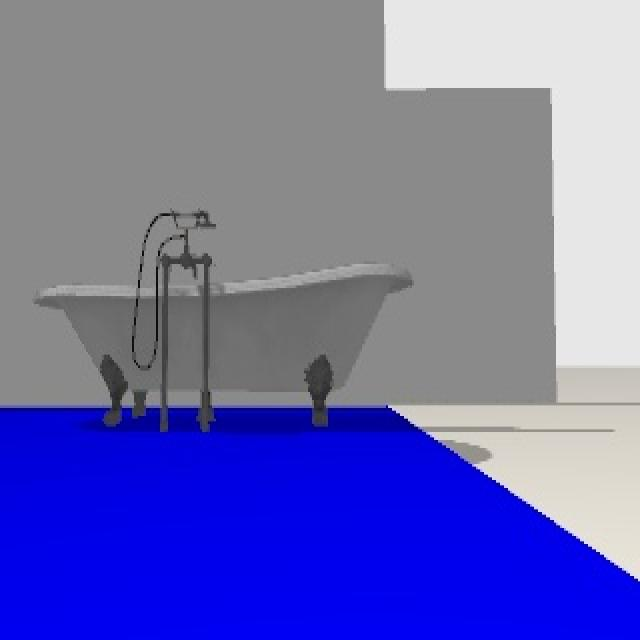bathtub: (33, 207, 413, 435)
